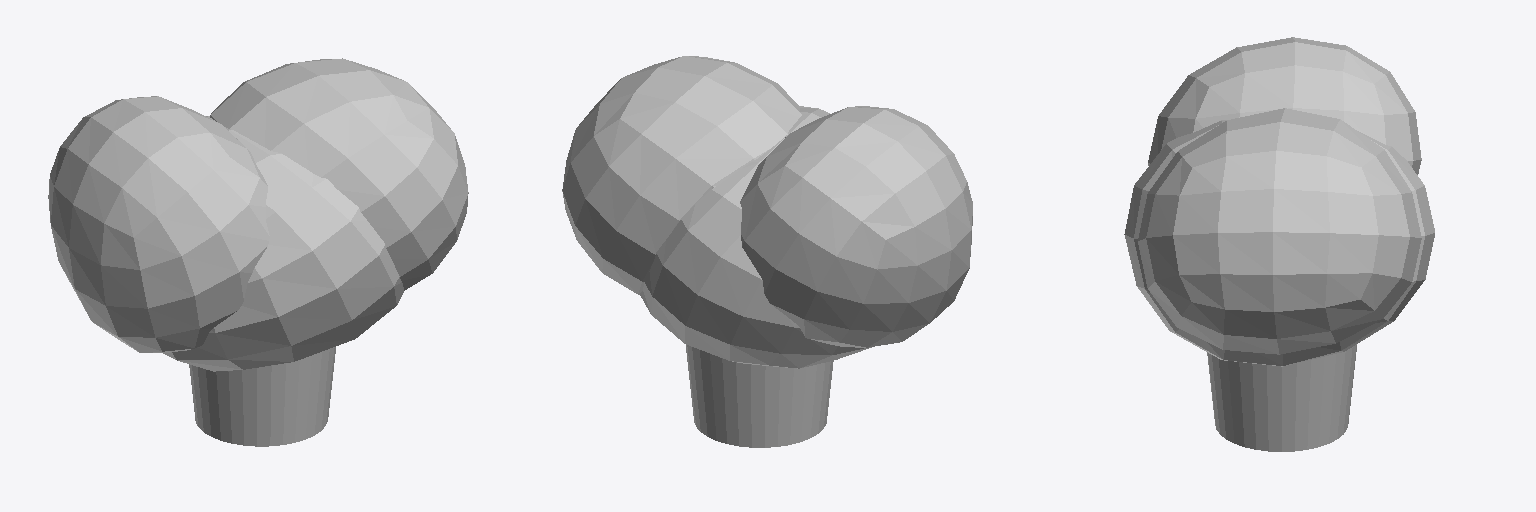
Rendered from Broccoli.obj.
3 views of the same model, side by side, from view 1: azimuth 30°, elevation 25°; view 2: azimuth 150°, elevation 25°; view 3: azimuth 270°, elevation 25° (orthographic).
Parts seen in each view (by area): view 1: Broccoli; view 2: Broccoli; view 3: Broccoli.
Part boxes in pixels (x1,y1,x2,y2): Broccoli: (48,58,468,446); Broccoli: (562,56,972,447); Broccoli: (1124,37,1434,451).
Bounding box in the file's own units: 0.4919 × 0.4175 × 0.3572.